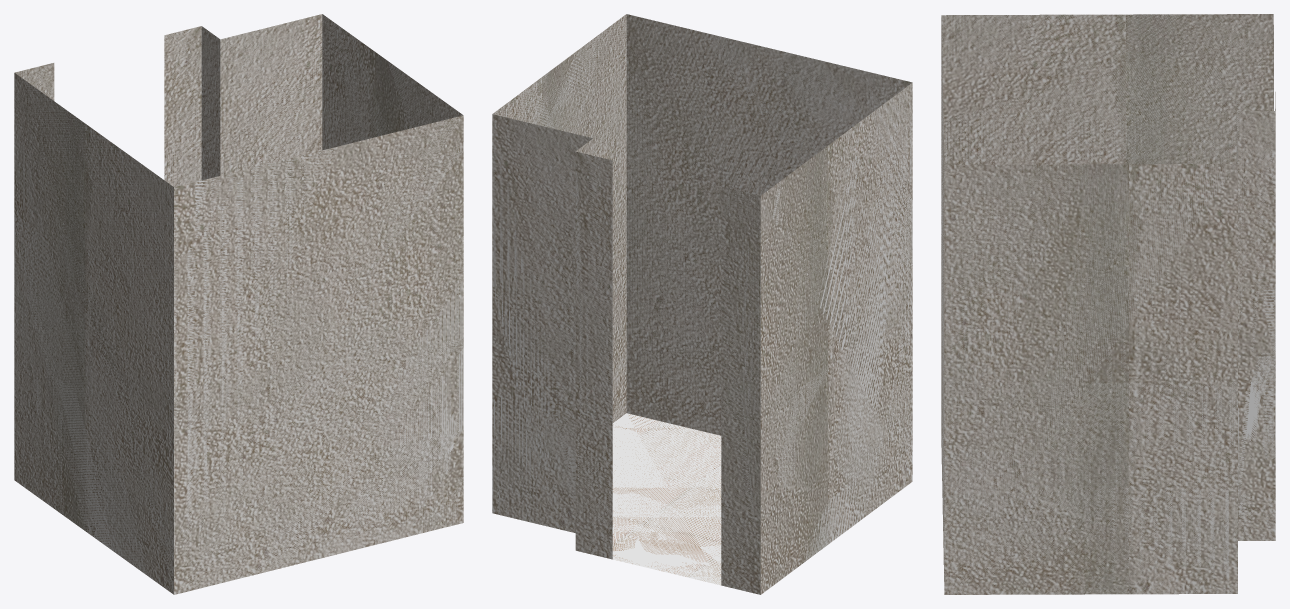
File: CUA002.obj
3 renders of one model, left to right at view 1: azimuth 30°, elevation 25°; view 2: azimuth 150°, elevation 25°; view 3: azimuth 270°, elevation 25°, orthographic. The views are drawn at different scales.
Visible parts, largest first — view 1: Mesh1 CUA002 Model; view 2: Mesh1 CUA002 Model; view 3: Mesh1 CUA002 Model.
Part boxes in pixels (box(x1,y1,x2,y2)): Mesh1 CUA002 Model: box(14, 14, 463, 594); Mesh1 CUA002 Model: box(492, 14, 912, 594); Mesh1 CUA002 Model: box(941, 14, 1275, 594).
Bounding box in the file's own units: 2.26 × 3 × 2.11.
Materials: 3 (2 with a texture image).
